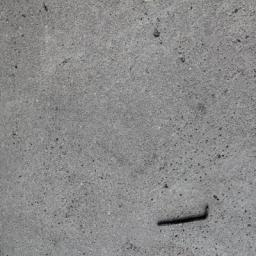FOD: (154, 204, 219, 228)
